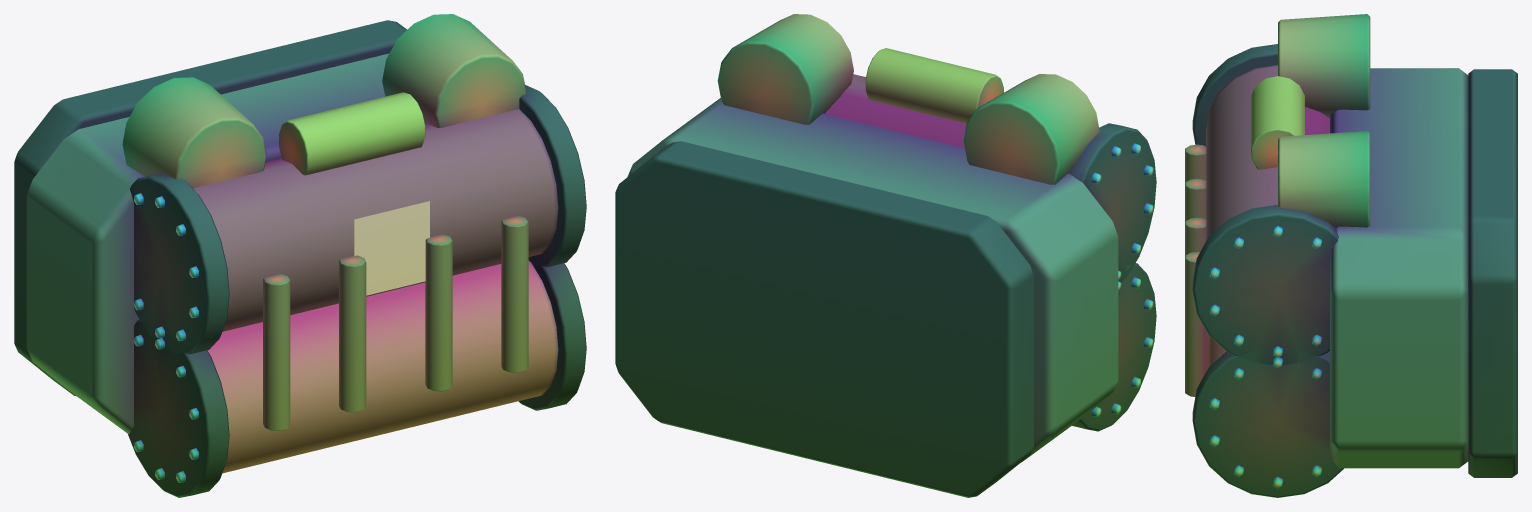
Rendered from gen_hydrothermal_hx.glb.
3 views of the same model, side by side, from view 1: azimuth 30°, elevation 25°; view 2: azimuth 150°, elevation 25°; view 3: azimuth 270°, elevation 25° (orthographic). The views are drawn at different scales.
Visible parts, largest first — view 1: Body__dark, Body__gunmetal, Body__armor, Body__armor_sub, Body__brass, Body__copper, Body__emit_amber, Body__decal, Body__chrome; view 2: Body__dark, Body__armor_sub, Body__brass, Body__emit_amber, Body__gunmetal, Body__chrome; view 3: Body__dark, Body__armor_sub, Body__brass, Body__gunmetal, Body__copper, Body__emit_amber, Body__chrome.
Boxes of the visible parts, x1,y1,x2,y2 form: Body__dark: (14,20,586,497); Body__gunmetal: (193,109,558,331); Body__armor: (207,260,558,473); Body__armor_sub: (26,53,388,434); Body__brass: (122,14,526,188); Body__copper: (263,215,528,431); Body__emit_amber: (279,92,425,175); Body__decal: (354,201,429,295); Body__chrome: (134,193,198,482); Body__dark: (615,123,1156,497); Body__armor_sub: (627,98,1118,462); Body__brass: (717,14,1099,184); Body__emit_amber: (865,48,1003,123); Body__gunmetal: (824,74,966,147); Body__chrome: (1092,143,1153,416); Body__dark: (1192,44,1517,497); Body__armor_sub: (1330,68,1468,468); Body__brass: (1278,14,1370,227); Body__gunmetal: (1206,65,1329,241); Body__copper: (1185,144,1209,396); Body__emit_amber: (1251,76,1304,169); Body__chrome: (1209,226,1321,488).
Bounding box in the file's own units: 0.84 × 0.643 × 0.5769.
